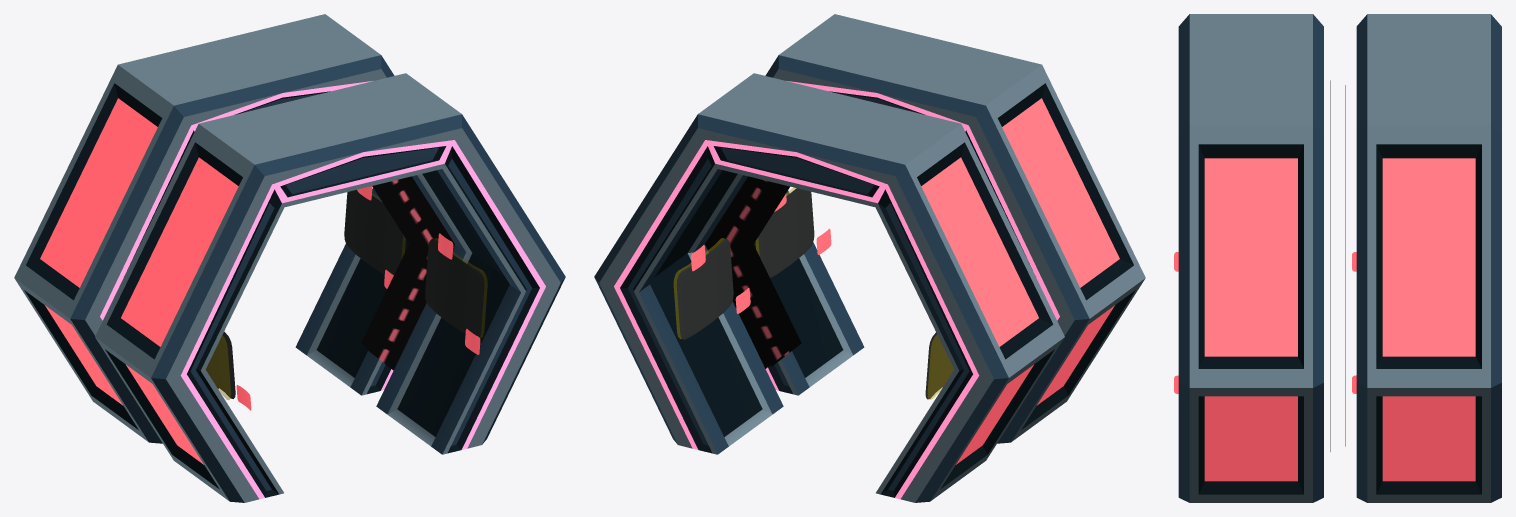
Rendered from museum_arcs_ads.fbx.
3 renders of one model, left to right at view 1: azimuth 30°, elevation 25°; view 2: azimuth 150°, elevation 25°; view 3: azimuth 270°, elevation 25°, orthographic. The views are drawn at different scales.
Parts seen in each view (by area): view 1: arcs_entrance; view 2: arcs_entrance; view 3: arcs_entrance.
Boxes of the visible parts, left/top/right/bottom form: arcs_entrance: left=14, top=14, right=565, bottom=502; arcs_entrance: left=594, top=14, right=1145, bottom=502; arcs_entrance: left=1174, top=14, right=1501, bottom=502.
Size of the model in its own units: 5.57 by 4.24 by 3.46.
